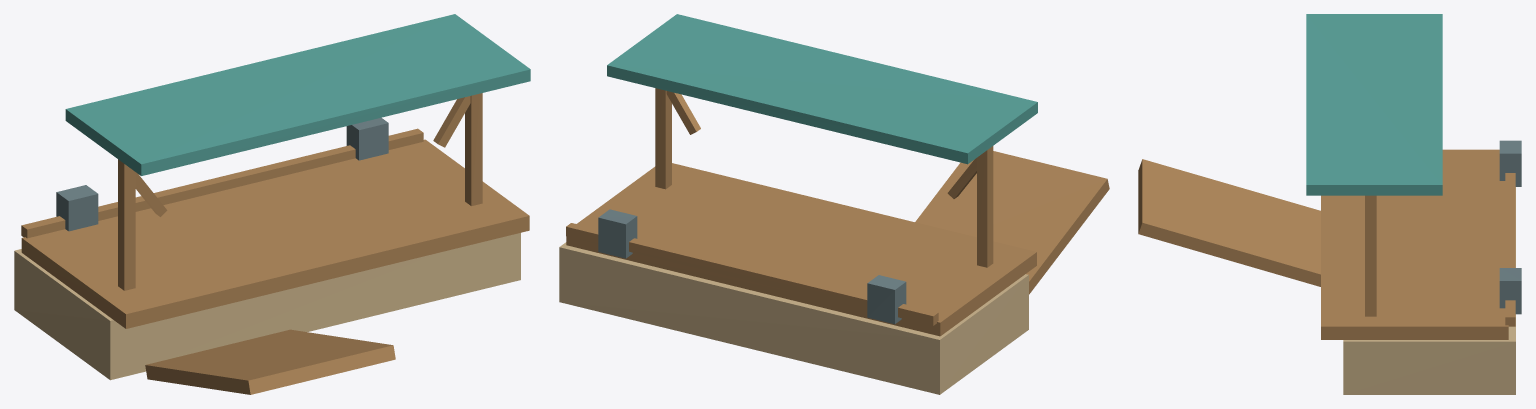
The model's file is Loading-Dock.glb.
The picture shows the model from 3 angles, left to right: view 1: azimuth 30°, elevation 25°; view 2: azimuth 150°, elevation 25°; view 3: azimuth 270°, elevation 25°; orthographic projection. The views are drawn at different scales.
Visible parts, largest first — view 1: loading-dock-static-loading-dock-timber-platform, loading-dock-static-loading-dock-canopy-roof, loading-dock-static-loading-dock-stone-base, loading-dock-static-loading-dock-ramp-rails, loading-dock-static-loading-dock-metal-bumpers; view 2: loading-dock-static-loading-dock-timber-platform, loading-dock-static-loading-dock-canopy-roof, loading-dock-static-loading-dock-stone-base, loading-dock-static-loading-dock-ramp-rails, loading-dock-static-loading-dock-metal-bumpers; view 3: loading-dock-static-loading-dock-timber-platform, loading-dock-static-loading-dock-canopy-roof, loading-dock-static-loading-dock-stone-base, loading-dock-static-loading-dock-metal-bumpers, loading-dock-static-loading-dock-ramp-rails.
Part boxes in pixels (x1,y1,x2,y2): loading-dock-static-loading-dock-timber-platform: [21, 93, 529, 394]; loading-dock-static-loading-dock-canopy-roof: [65, 14, 530, 175]; loading-dock-static-loading-dock-stone-base: [14, 233, 520, 380]; loading-dock-static-loading-dock-ramp-rails: [21, 96, 470, 238]; loading-dock-static-loading-dock-metal-bumpers: [56, 117, 388, 231]; loading-dock-static-loading-dock-timber-platform: [566, 88, 1109, 336]; loading-dock-static-loading-dock-canopy-roof: [607, 14, 1037, 164]; loading-dock-static-loading-dock-stone-base: [559, 242, 1028, 394]; loading-dock-static-loading-dock-ramp-rails: [566, 91, 976, 325]; loading-dock-static-loading-dock-metal-bumpers: [598, 209, 906, 324]; loading-dock-static-loading-dock-timber-platform: [1138, 149, 1508, 339]; loading-dock-static-loading-dock-canopy-roof: [1306, 14, 1442, 195]; loading-dock-static-loading-dock-stone-base: [1343, 187, 1515, 394]; loading-dock-static-loading-dock-metal-bumpers: [1499, 140, 1521, 314]; loading-dock-static-loading-dock-ramp-rails: [1505, 173, 1515, 326].
Size of the model in its own units: 5.8 by 3.08 by 5.21.
